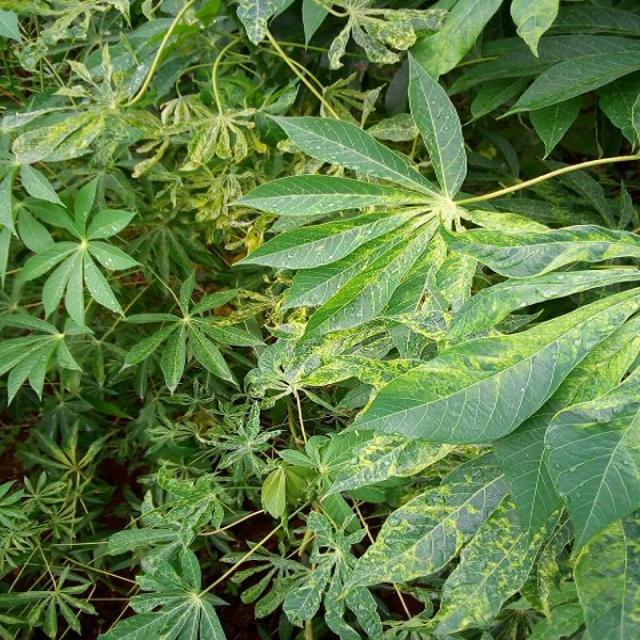cassava leaf: (229, 47, 638, 637)
